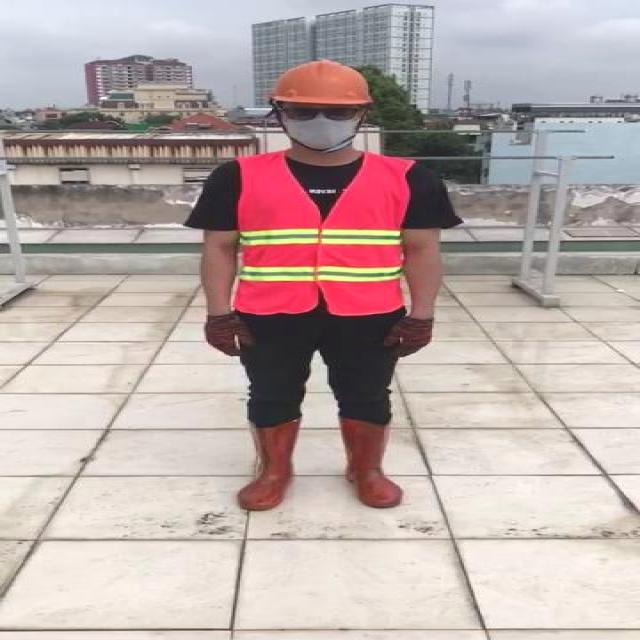boots: (236, 414, 302, 511), (343, 416, 400, 508)
face_mask: (281, 101, 366, 152)
glasses: (279, 101, 363, 125)
hand_glove: (384, 314, 439, 360), (201, 318, 259, 358)
head_helmet: (267, 56, 377, 106)
person: (177, 63, 459, 531)
vest: (235, 152, 412, 314)
